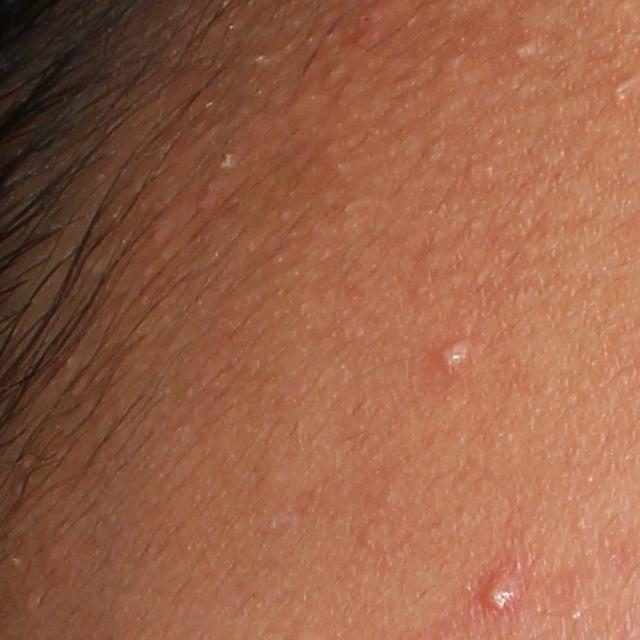comedo: (508, 34, 535, 66), (216, 146, 243, 178)
papule: (354, 4, 391, 32)
pustule: (469, 568, 526, 616), (440, 336, 480, 381)
